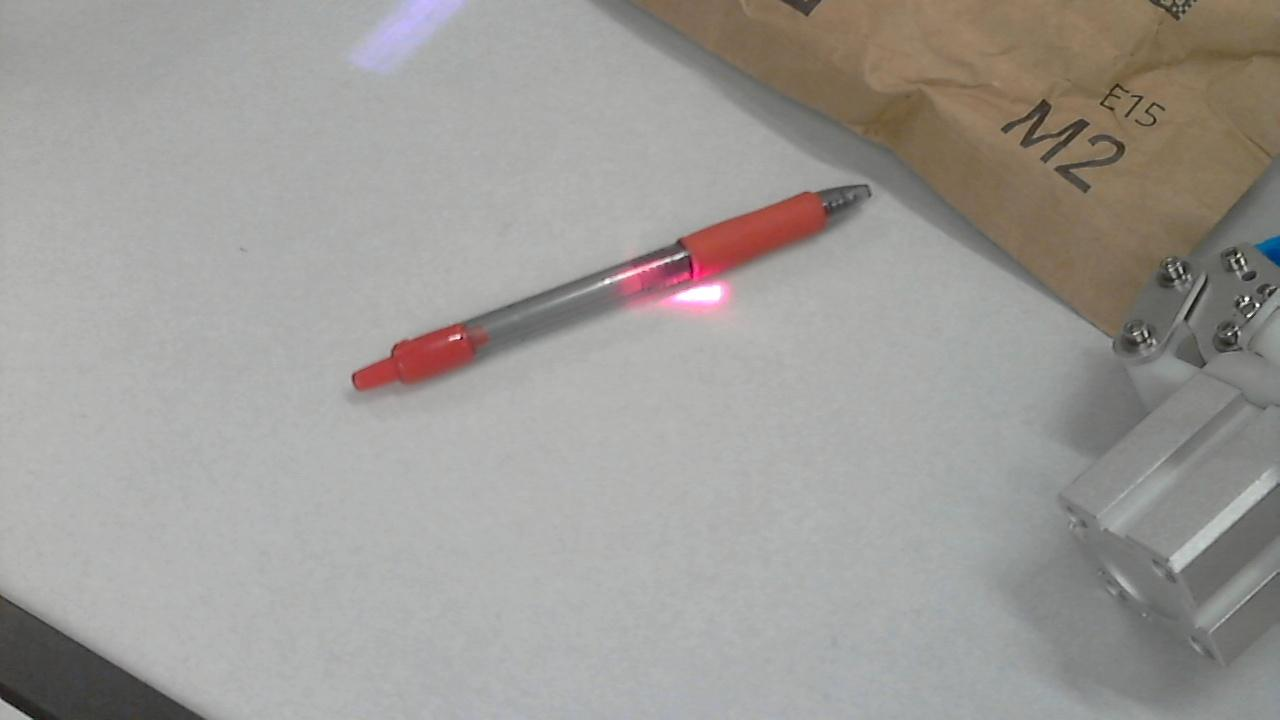Object ballpoint pen - Material plastic - Color clear - Pdfname Tg2wygrqE5uZ: (610, 245, 679, 296)
